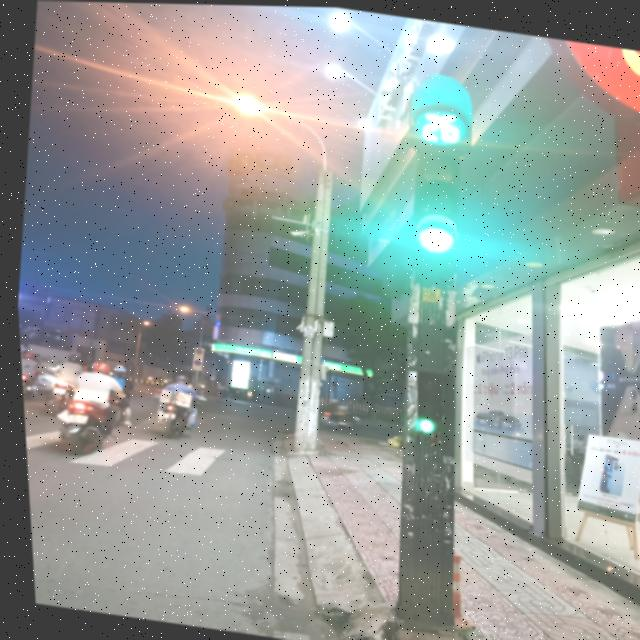Green: (393, 142, 470, 252), (387, 357, 455, 443)
